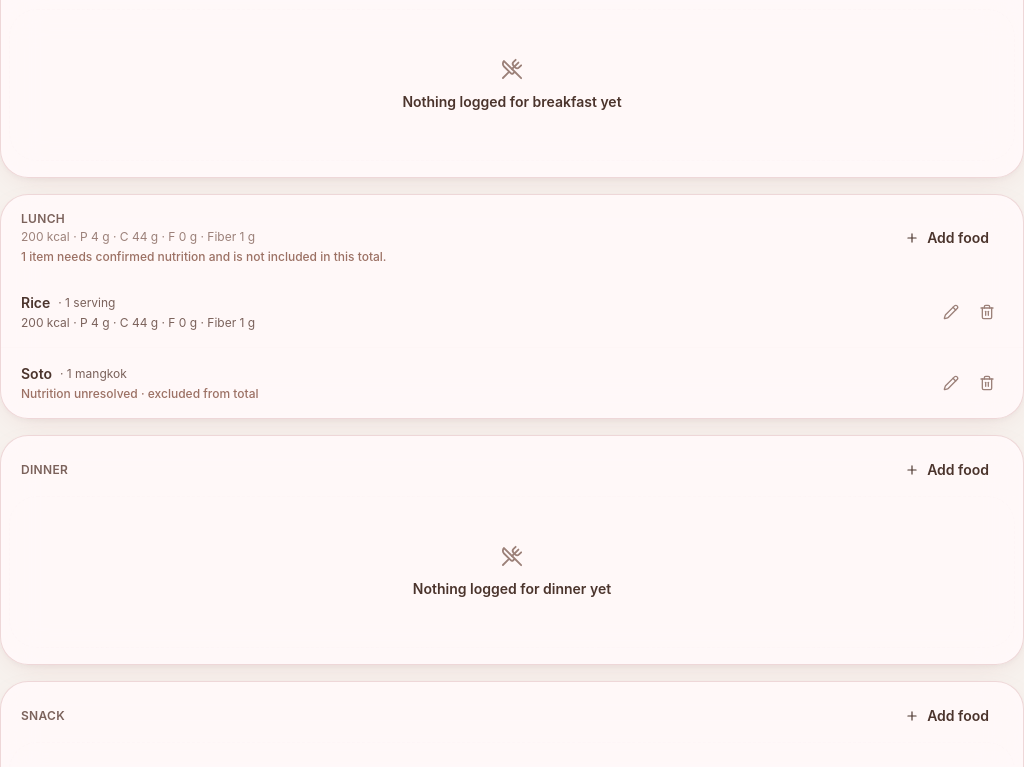
Test: /meal manual nutrition confirmation › repairs an unresolved existing item, updates totals, and keeps the confirmed values
(page scrolled)
Check: the text "1 item needs confirmed nutrition" is shown, box [21,249,386,265]
Click the button named "Edit Soto" at (951, 383), box [935,367,967,399]
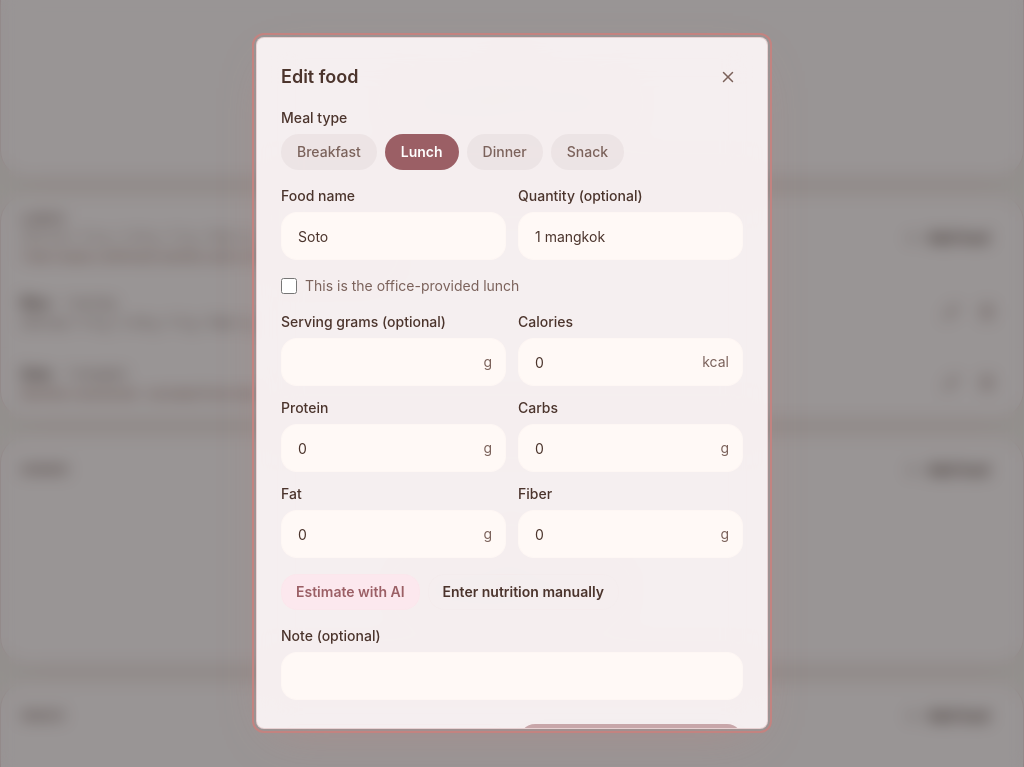
Click the button "Estimate with AI" at (350, 592), box [281,574,420,610]
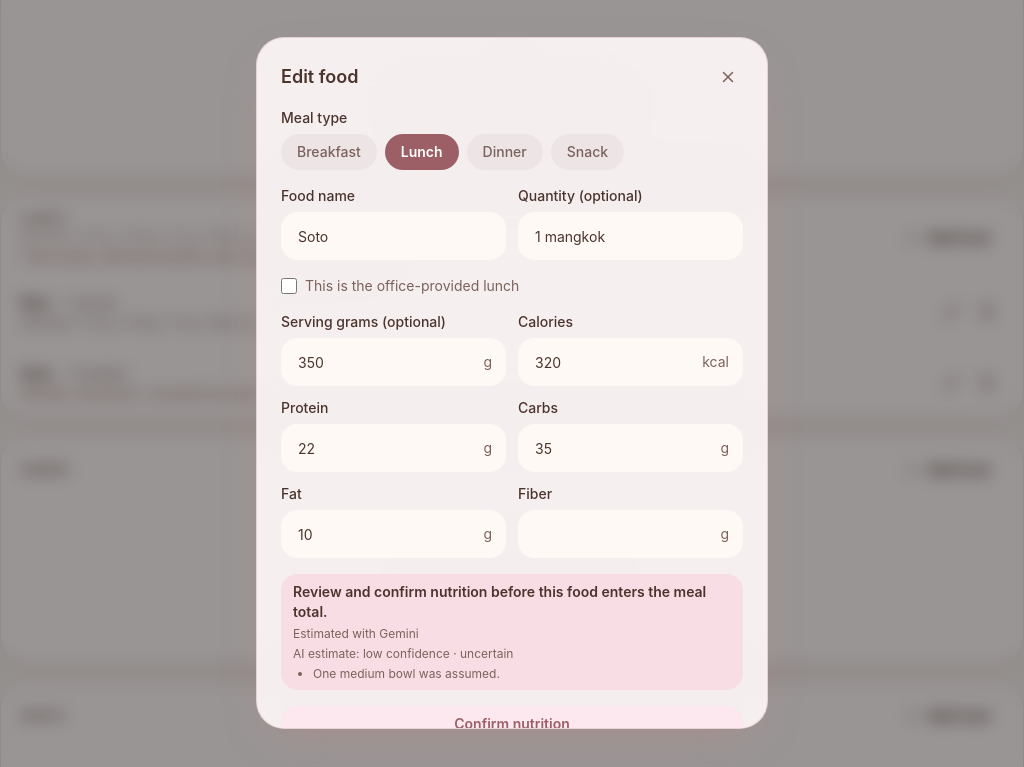
Replace the text in the number field labelled "Calories" with "350" at (630, 362), box [518,338,743,386]
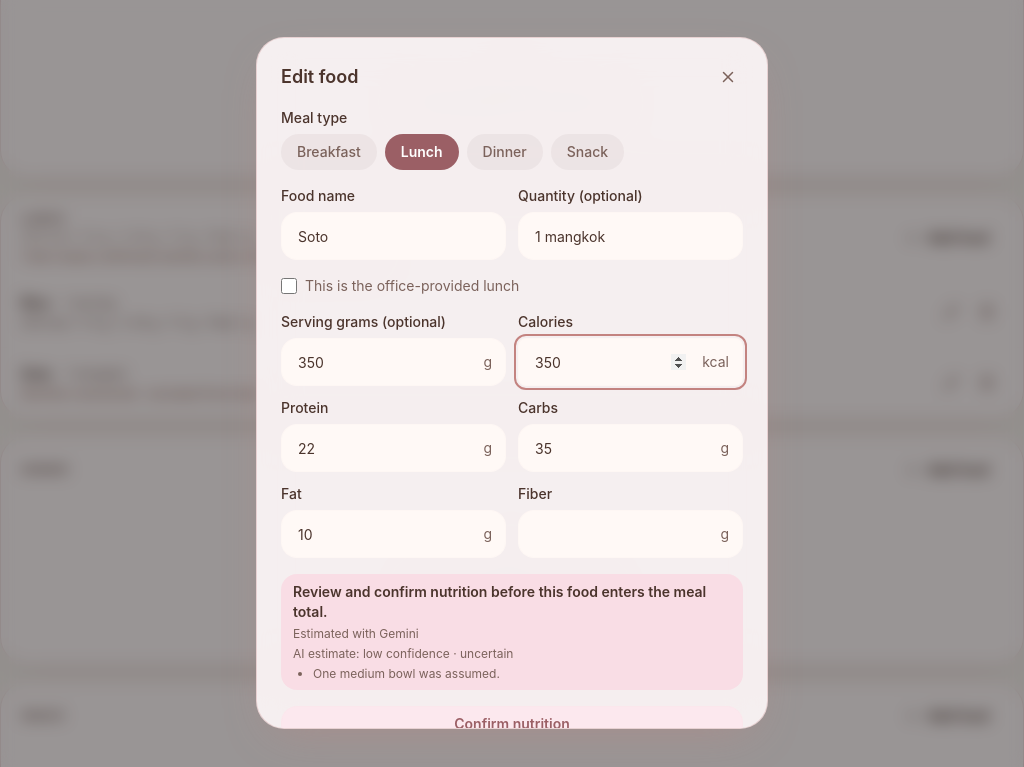
Click the button "Confirm nutrition" at (512, 724), box [281,706,743,742]
(page scrolled)
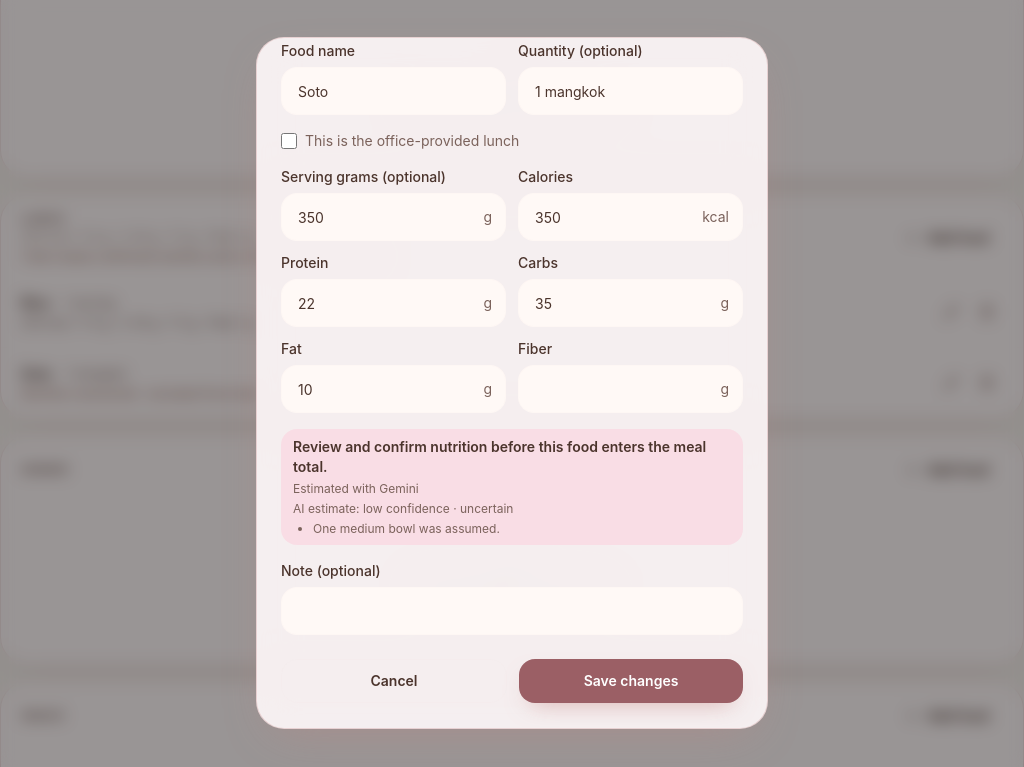
Click the button "Save changes" at (631, 681), box [519,659,743,703]
(page scrolled)
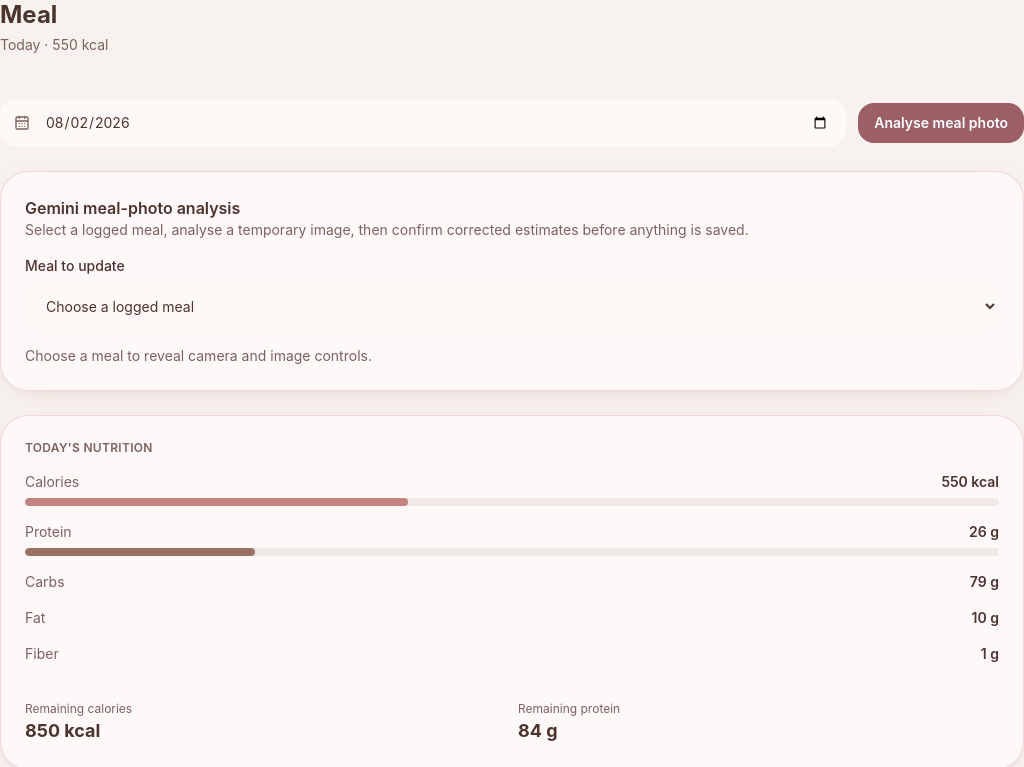
Check: the text "Today · 550 kcal" is shown, box [0,35,108,55]
